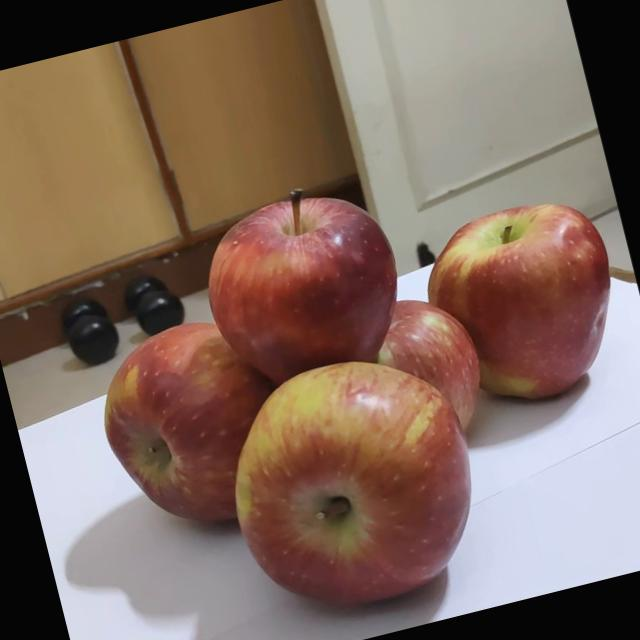apple: (221, 324, 525, 633), (86, 299, 332, 552), (410, 172, 640, 430), (200, 162, 438, 404)
